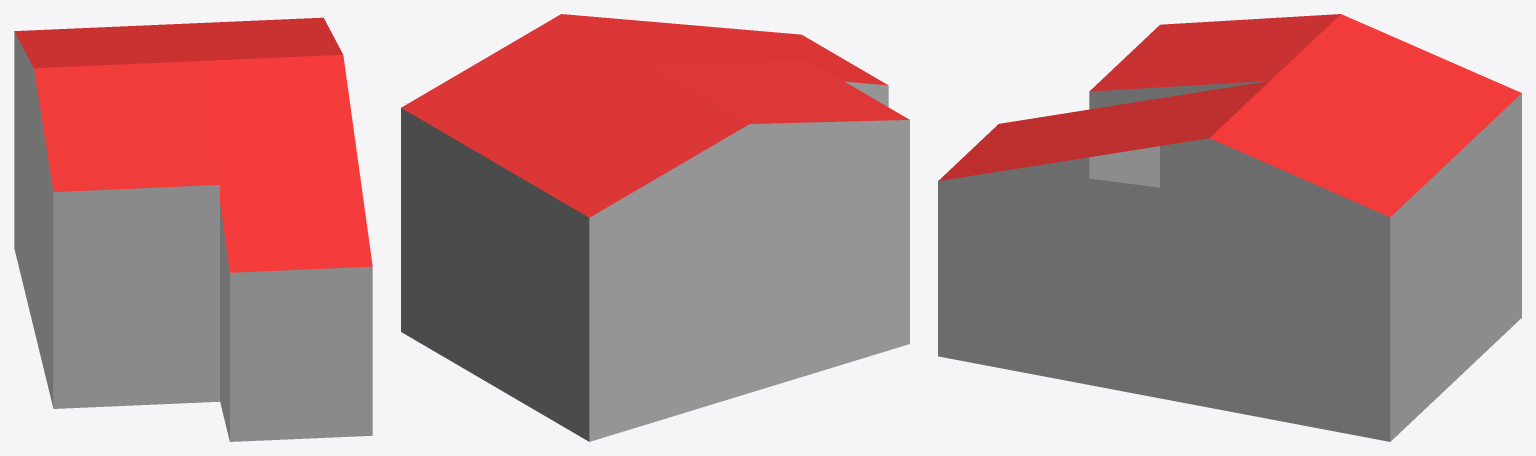
Rendered from pb-9635c10a-7f36-11f0-bcc0-9c7bef4dcf4c.dae.
3 renders of one model, left to right at view 1: azimuth 30°, elevation 25°; view 2: azimuth 150°, elevation 25°; view 3: azimuth 270°, elevation 25°, orthographic. The views are drawn at different scales.
Bounding box in the file's own units: 9.2 × 11.78 × 6.
